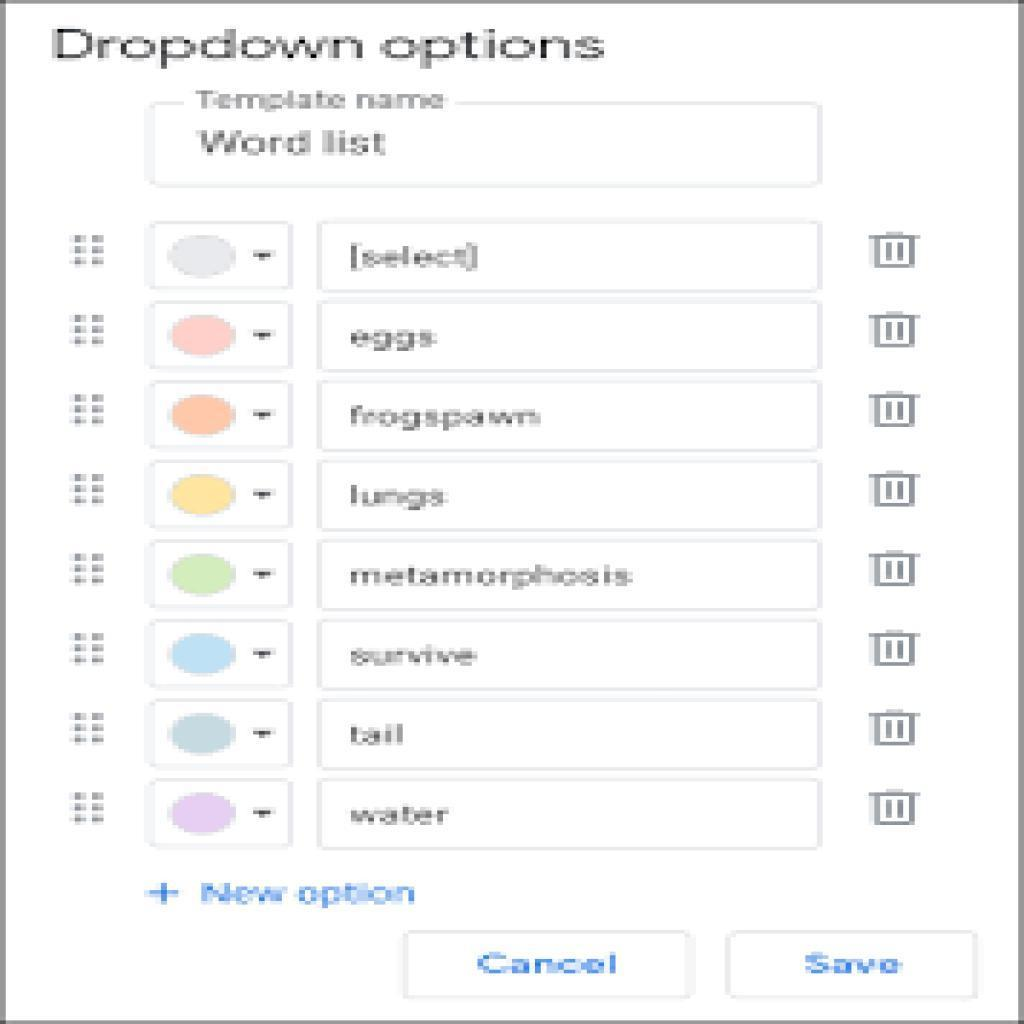button: (406, 933, 693, 1000), (725, 933, 976, 996)
dropdown: (152, 385, 291, 452), (150, 463, 291, 528), (147, 784, 288, 848), (151, 619, 293, 682), (150, 303, 291, 366), (151, 705, 292, 768), (149, 544, 294, 604), (154, 227, 291, 284)
icon: (869, 546, 925, 593), (867, 789, 925, 831), (867, 229, 920, 274), (869, 467, 920, 513), (870, 704, 922, 749), (871, 310, 923, 354), (869, 389, 922, 432), (871, 629, 922, 671)
input: (156, 102, 822, 185), (321, 776, 823, 852), (320, 304, 823, 375), (320, 460, 818, 531), (321, 619, 819, 688), (321, 543, 822, 611), (320, 223, 822, 290), (321, 700, 820, 767), (323, 383, 825, 449)
